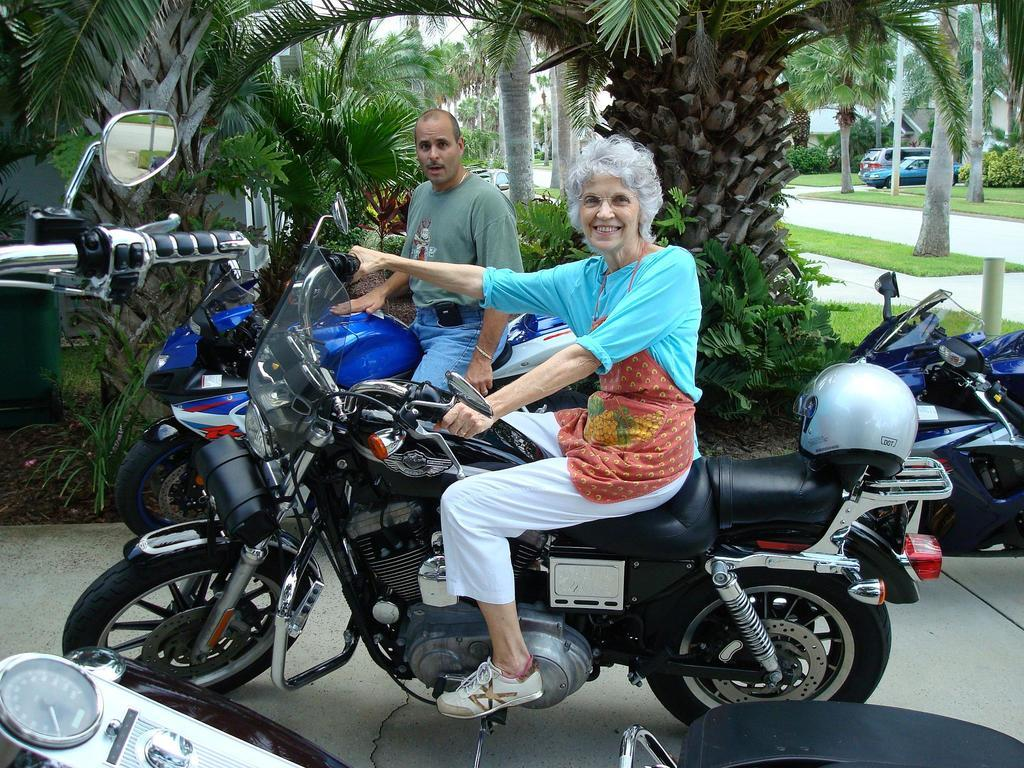helmet: (792, 362, 919, 478)
nohelmet: (565, 137, 663, 256), (413, 107, 466, 189)
